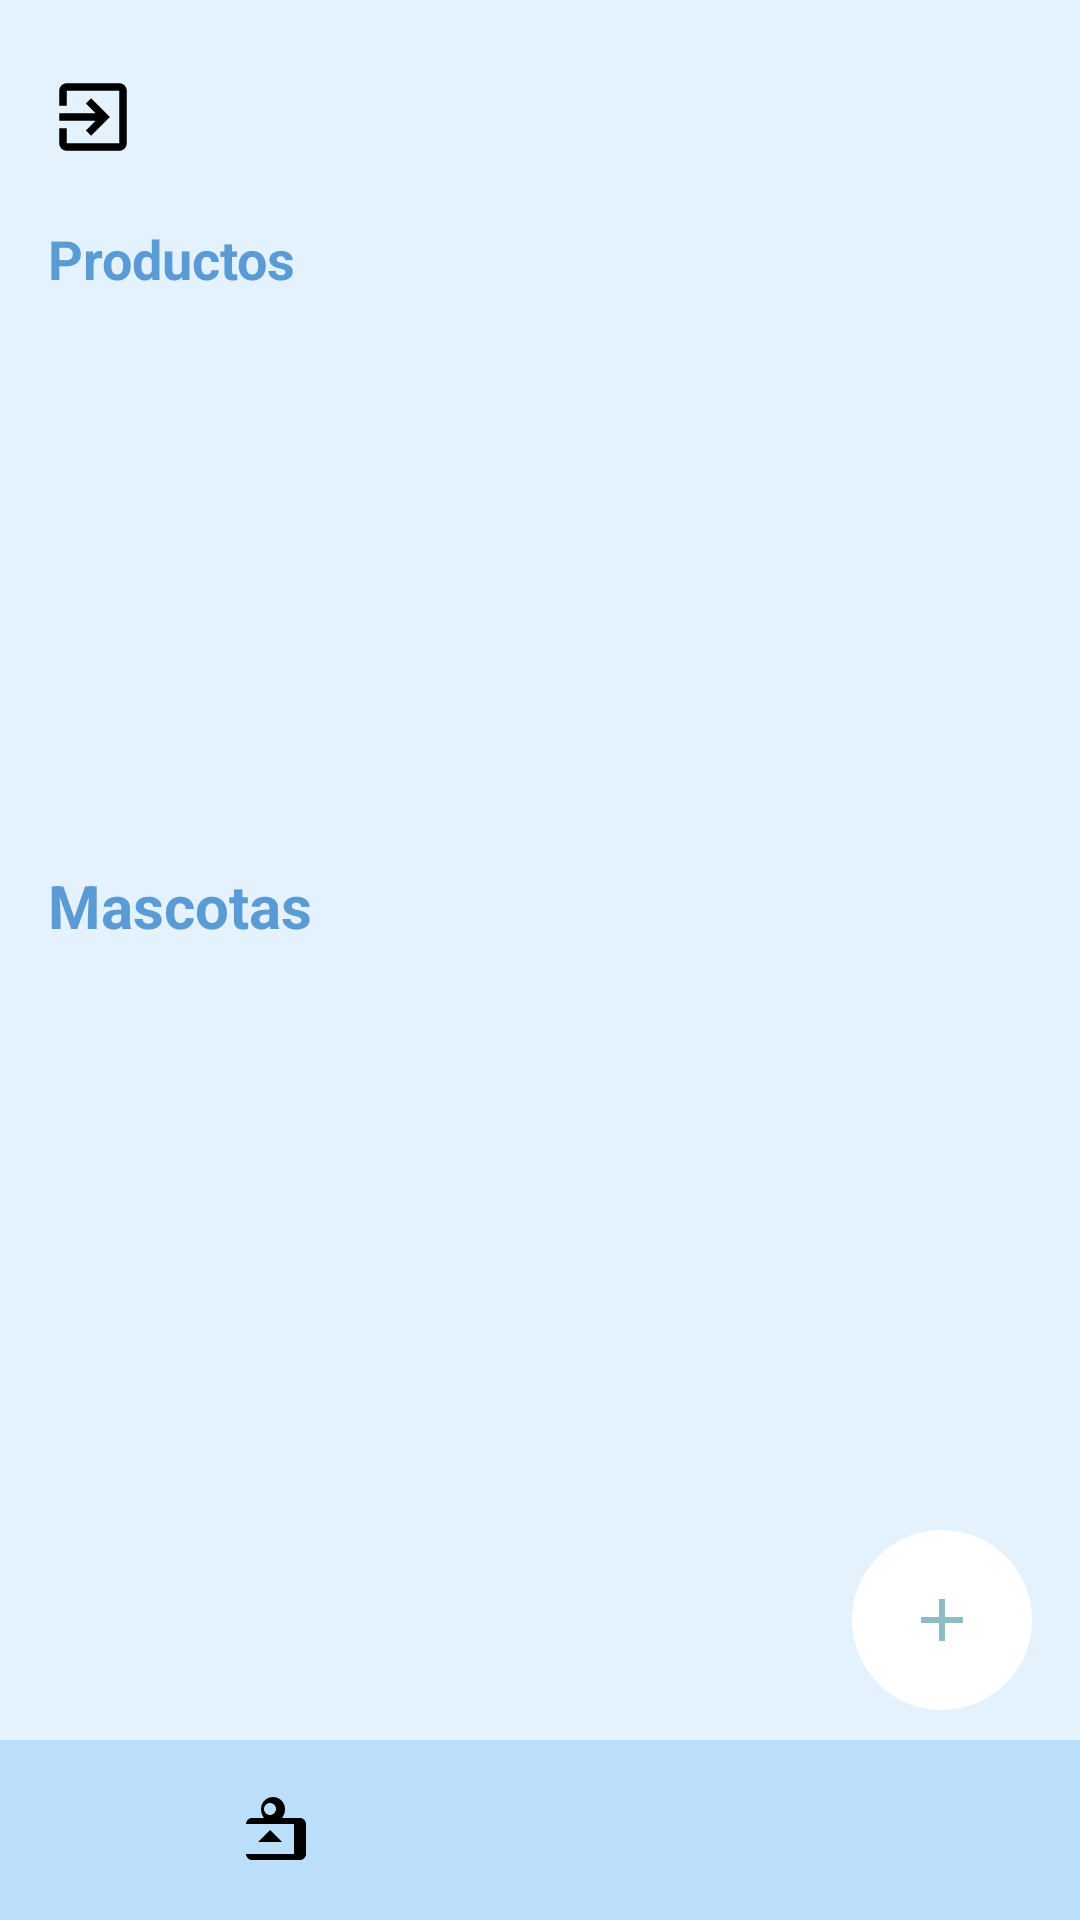

Icon bounding boxes for this 1080×1920 phone screenshot, format (x1, y1, x2, y2):
Agregar mascota: (852, 1530, 1032, 1710)
Cerrar sesión: (59, 83, 127, 151)
